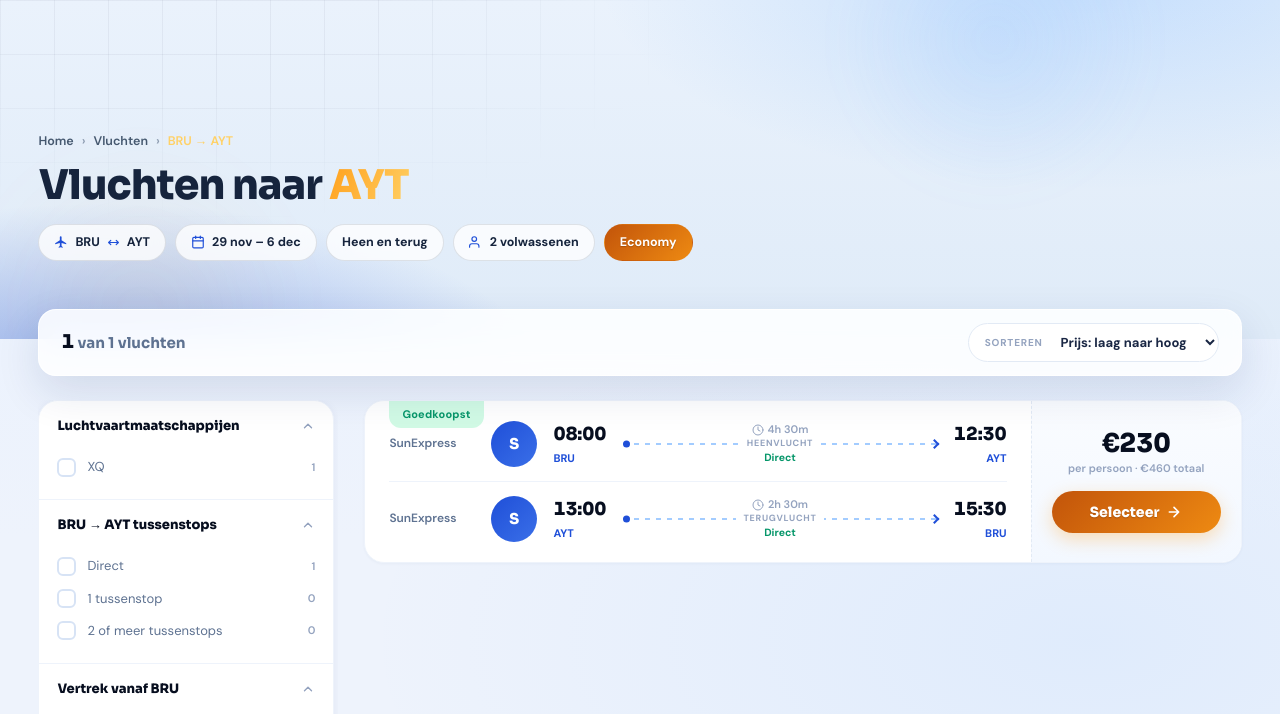
it: Select checks the fare live before anyone can book it › a failed check offers another go and never claims the seat is sold
The image size is (1280, 714).
Click the button "Selecteer" at coordinates (1136, 512), box top-left (1052, 491), bottom-right (1221, 533)
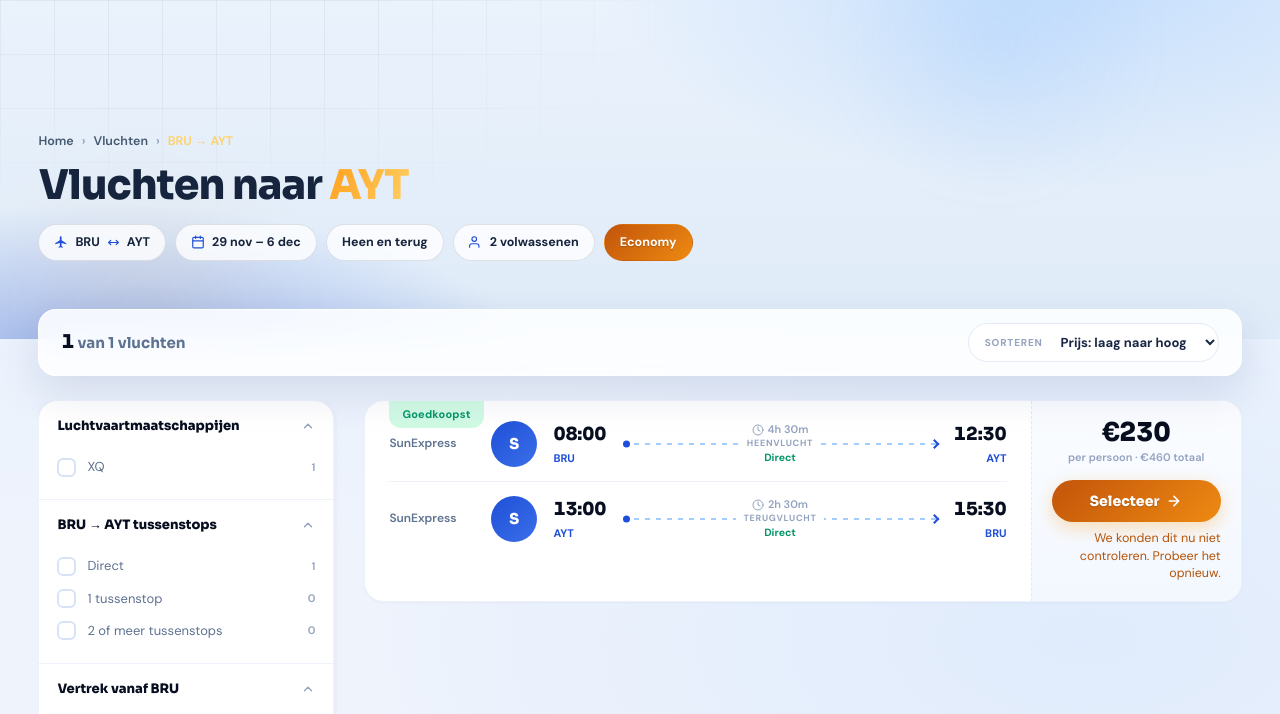
Expected: the button "Selecteer" is enabled, top-left (1052, 480), bottom-right (1221, 522)
Expected: the text "We konden dit nu niet controleren. Probeer het opnieuw." is shown, top-left (1080, 530), bottom-right (1221, 581)
